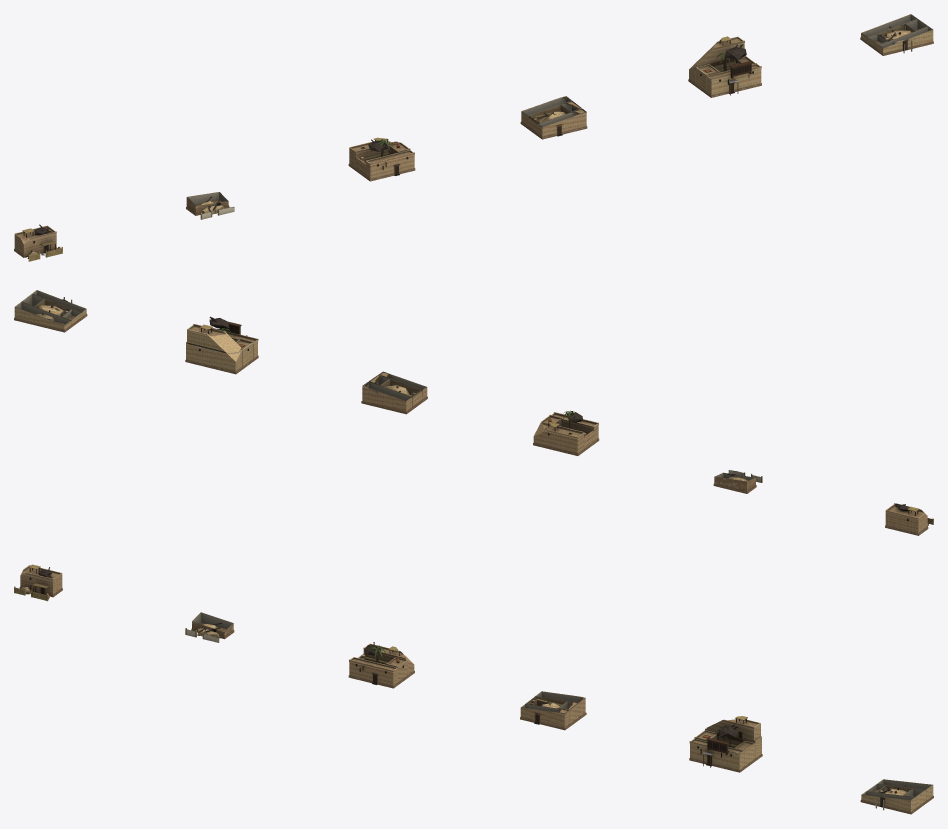
The model's file is kingdoms-mesopotamia-houses-damage.glb.
3 views of the same model, one above another, from view 1: azimuth 30°, elevation 25°; view 2: azimuth 150°, elevation 25°; view 3: azimuth 330°, elevation 25° (orthographic).
Parts seen in each view (by area): view 1: LOD0.004, LOD0.002, LOD0.003, LOD0.005, LOD0, LOD0.001; view 2: LOD0.004, LOD0.002, LOD0.005, LOD0.003, LOD0, LOD0.001; view 3: LOD0.004, LOD0.002, LOD0.003, LOD0.005, LOD0, LOD0.001.
Boxes of the visible parts, x1,y1,x2,y2 form: LOD0.004: [688, 36, 761, 97]; LOD0.002: [348, 137, 415, 181]; LOD0.003: [520, 96, 587, 139]; LOD0.005: [860, 14, 933, 55]; LOD0: [14, 224, 62, 261]; LOD0.001: [186, 192, 234, 219]; LOD0.004: [185, 316, 258, 374]; LOD0.002: [533, 410, 599, 455]; LOD0.005: [14, 290, 87, 332]; LOD0.003: [361, 371, 427, 414]; LOD0: [885, 503, 933, 535]; LOD0.001: [713, 470, 762, 493]; LOD0.004: [689, 716, 762, 772]; LOD0.002: [348, 642, 414, 688]; LOD0.003: [520, 691, 586, 730]; LOD0.005: [860, 779, 933, 814]; LOD0: [14, 564, 62, 601]; LOD0.001: [185, 612, 234, 642].
Size of what is drawn, in the model's own units: 15.74 by 0.6352 by 0.778.
2 materials, 2 textured.
